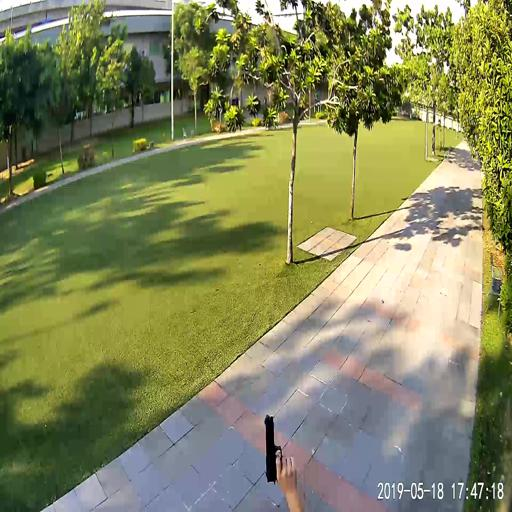pistol: (263, 412, 283, 486)
